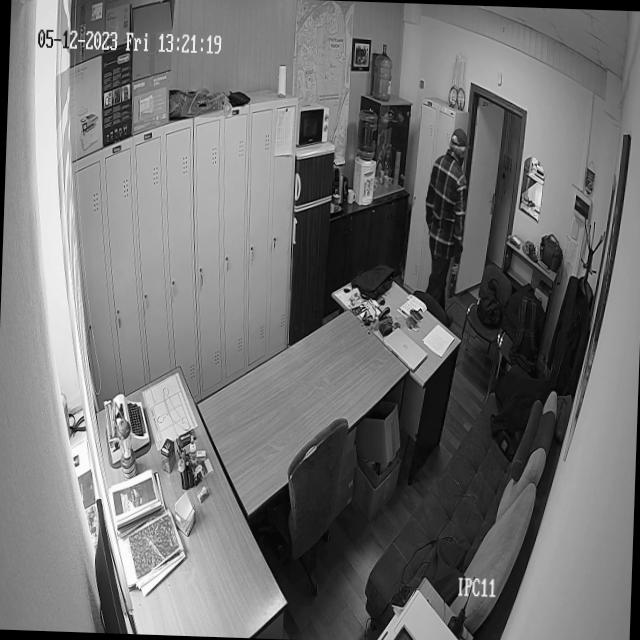gun: (448, 267, 460, 307)
person with a gun: (420, 110, 476, 337)
